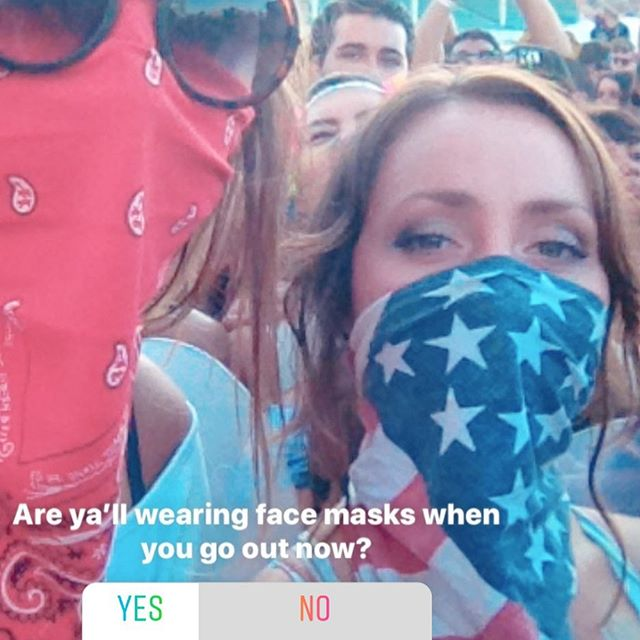homemade: (355, 260, 605, 506)
